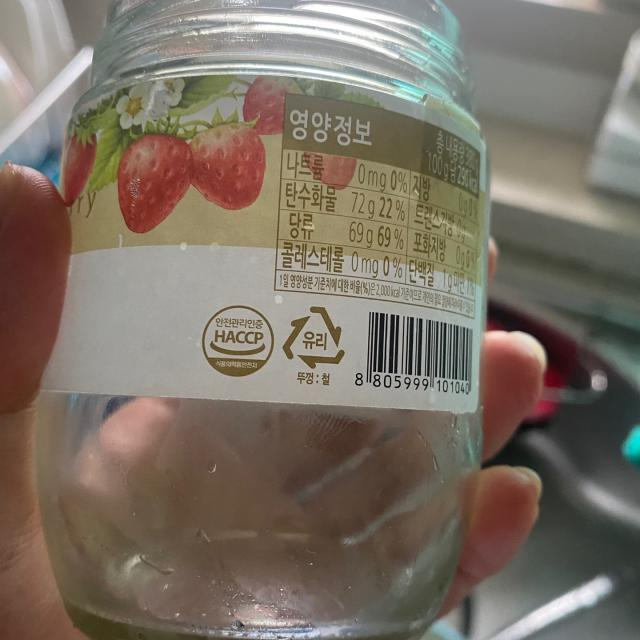Glass: (281, 304, 346, 371)
